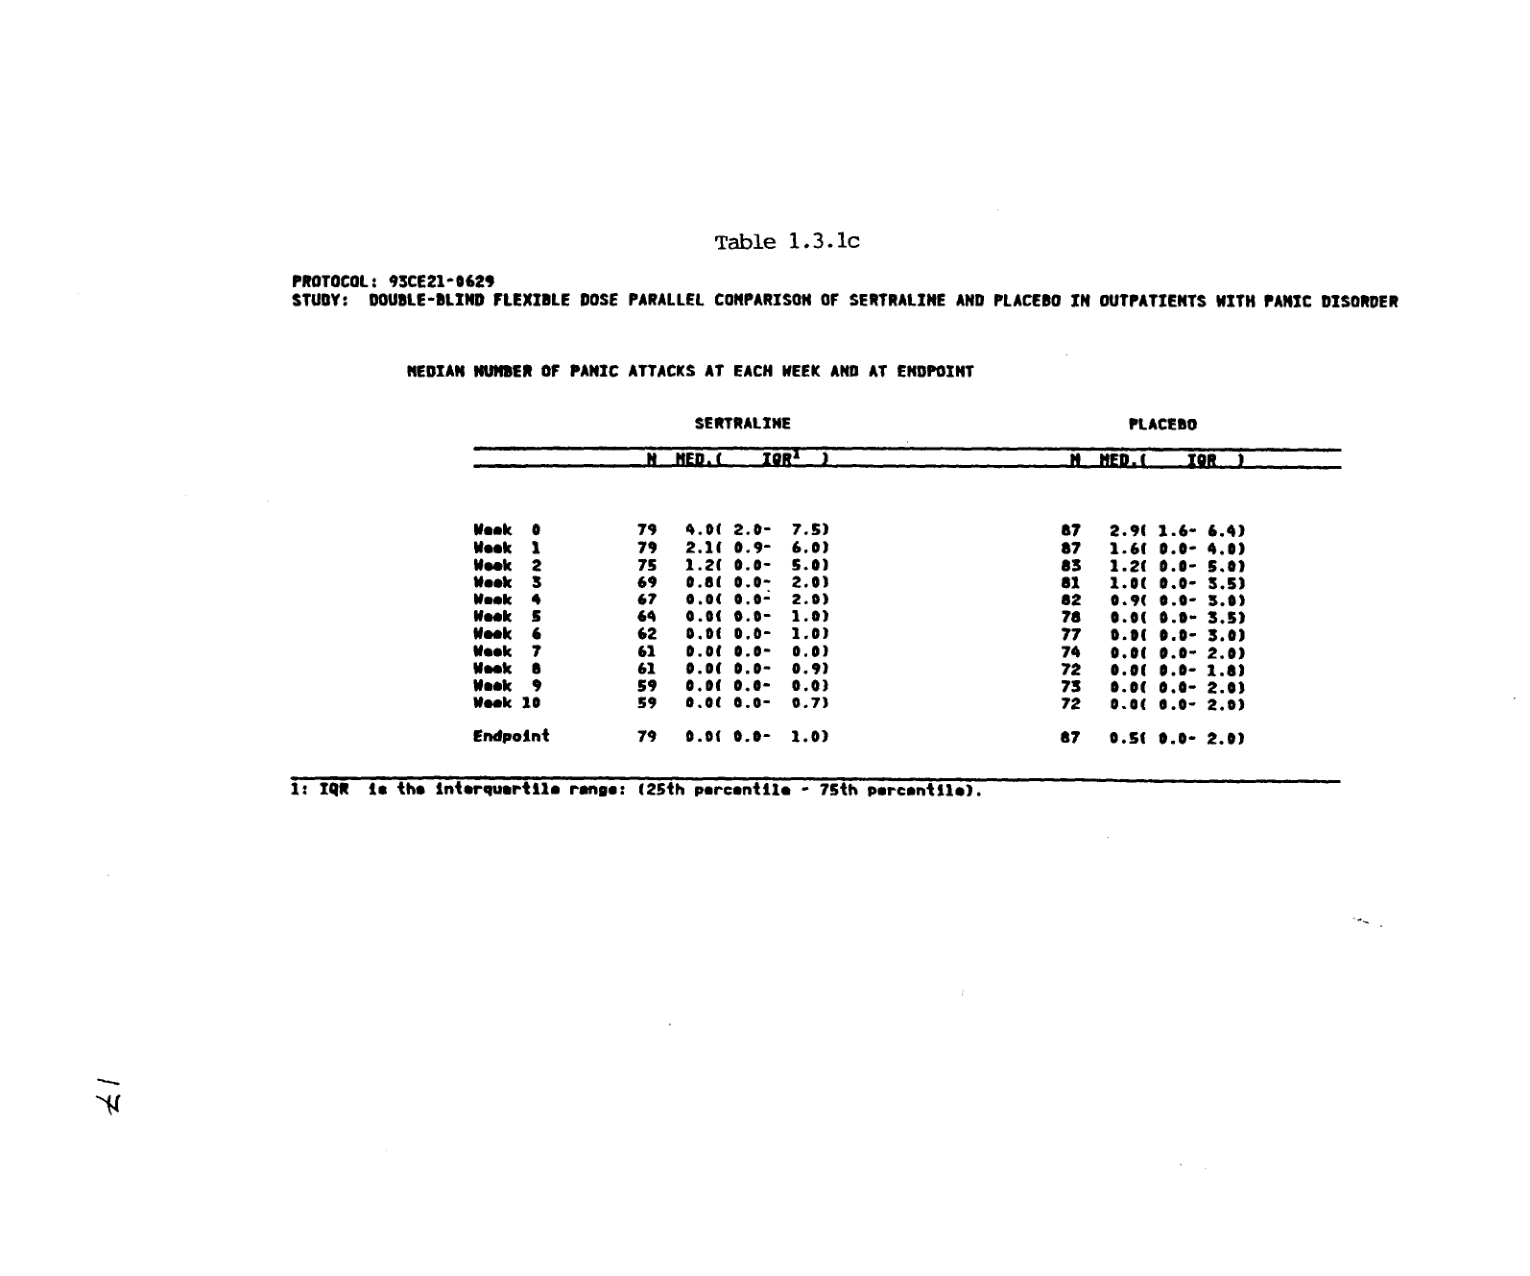partial_lined_merged_cells: (469, 414, 1343, 746)
